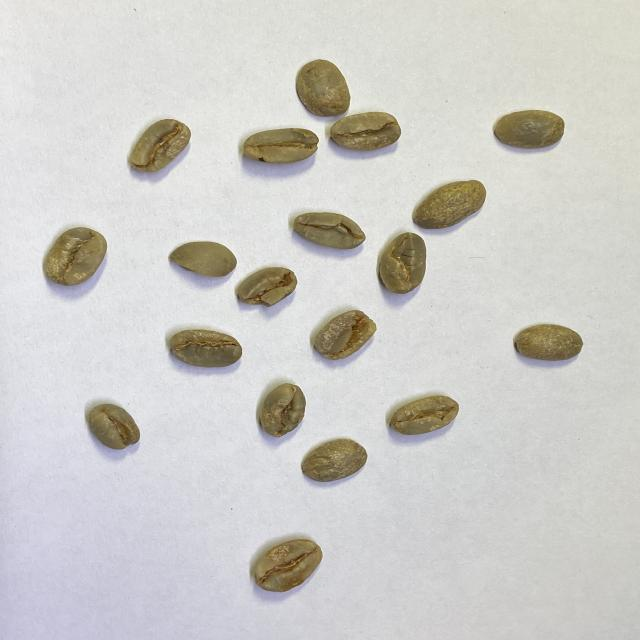bad: (127, 118, 191, 174), (312, 310, 379, 360), (292, 211, 367, 251), (378, 233, 426, 294), (234, 266, 298, 310), (168, 330, 242, 368), (259, 383, 307, 437)
good: (41, 224, 108, 286), (411, 178, 487, 228), (255, 538, 322, 591), (294, 58, 350, 117), (300, 436, 368, 484), (491, 108, 566, 149), (390, 395, 460, 436), (242, 126, 317, 164), (328, 112, 400, 151), (167, 240, 238, 279), (513, 323, 583, 362), (87, 403, 141, 450)
